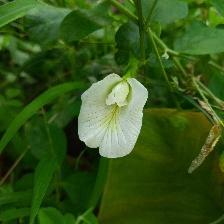shankupushpam: (77, 70, 152, 162)
